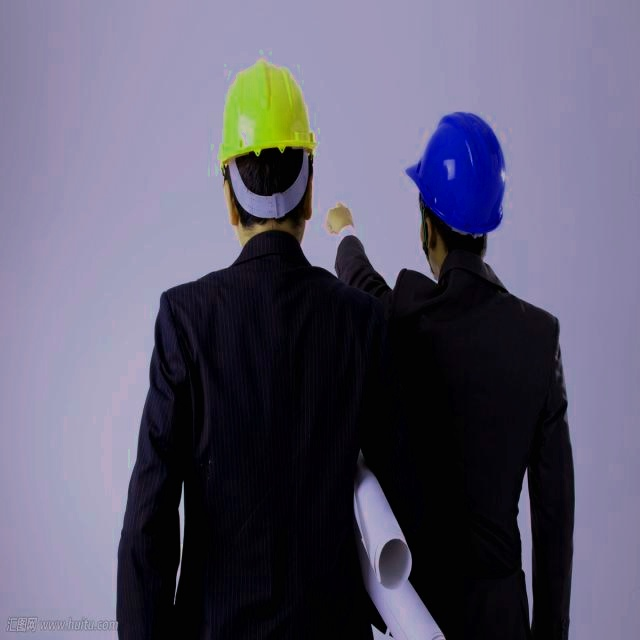Con_Casco: (223, 66, 323, 237)
